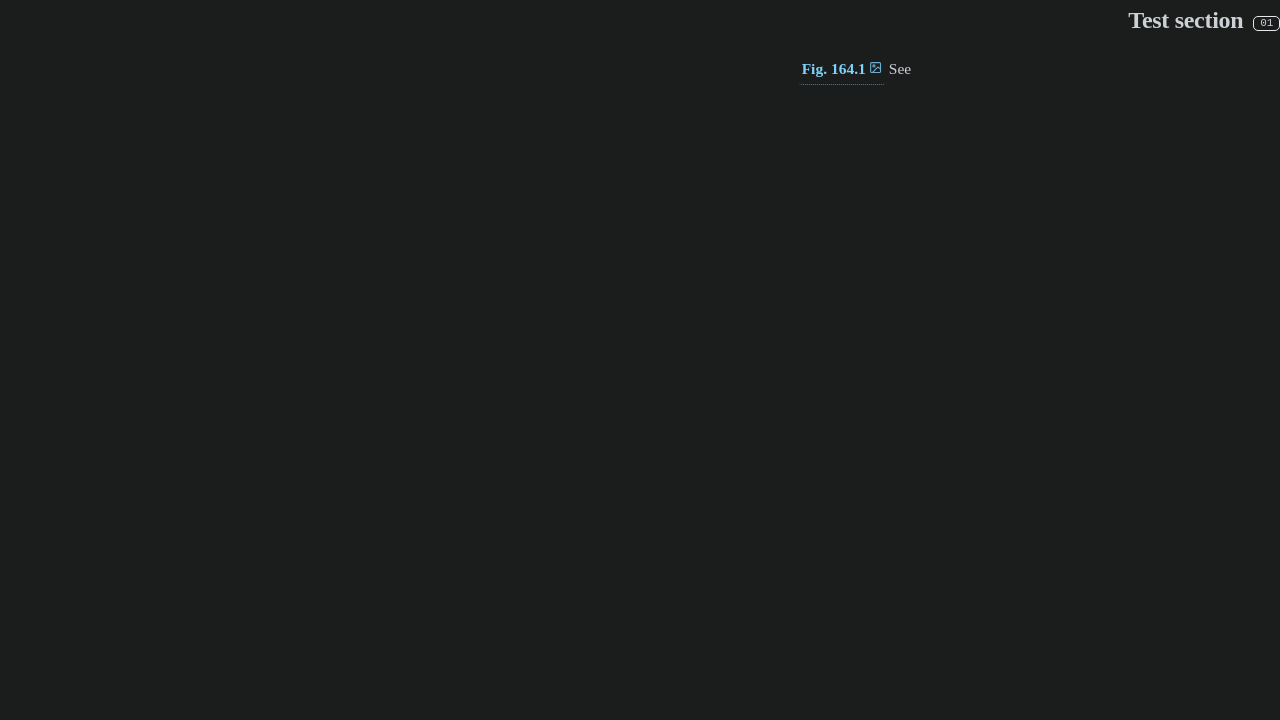
Media reader pipeline — Phase 2 registry resolution › real SegmentRenderer/FrameCard content path turns Fig. 164.1 into a matched imported image, not fallback
Click the button "Fig. 164.1" at (842, 70), box [799, 54, 885, 85]
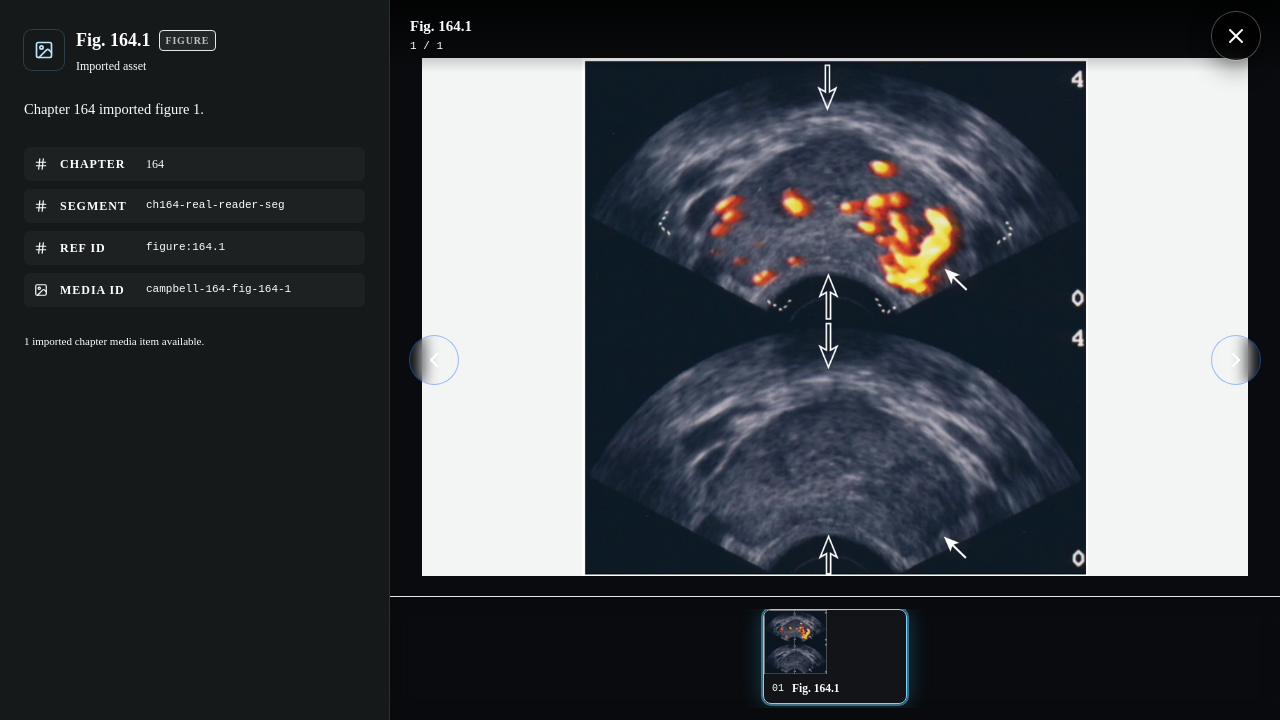
Now the text "Imported asset" is shown, box [76, 59, 146, 73]
Now the text with test id "media-caption" shows "Chapter 164 imported figure 1", box [24, 101, 204, 117]
